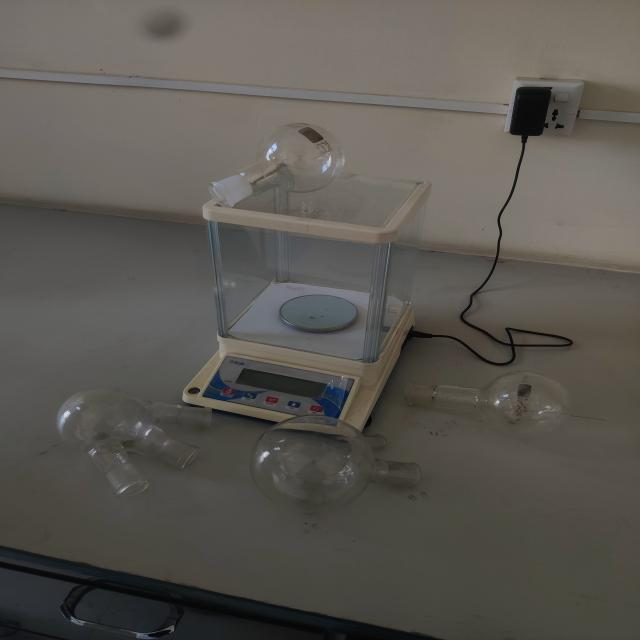Round_Bottom_Flask_Borosilicate_Glass_1_Neck: (180, 94, 384, 224), (361, 346, 613, 446)
Round_Bottom_Flask_Borosilicate_Glass_2_Neck: (235, 370, 444, 529)
Round_Bottom_Flask_Borosilicate_Glass_3_Neck: (37, 373, 232, 514)
